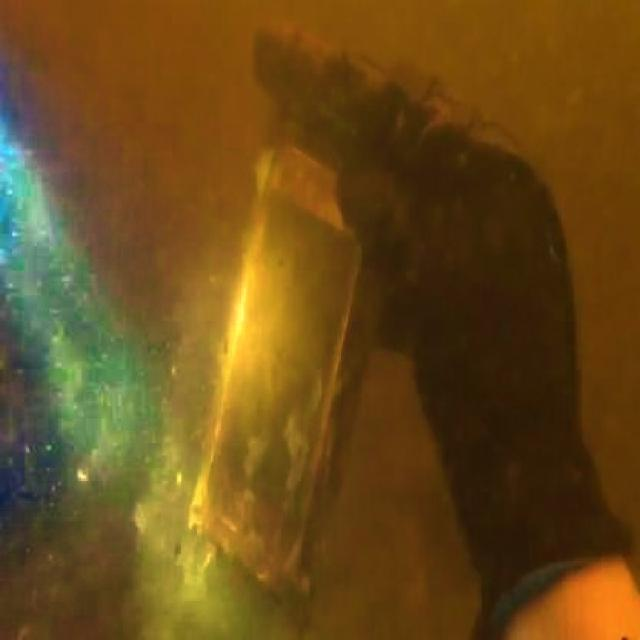cellphone: (194, 140, 369, 592)
